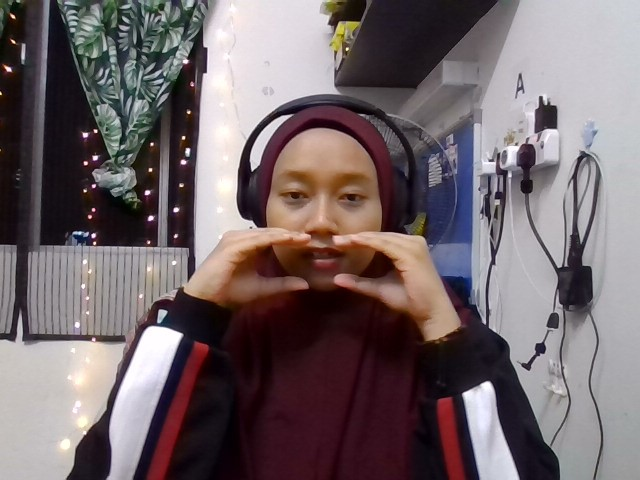Burger: (184, 227, 458, 320)
